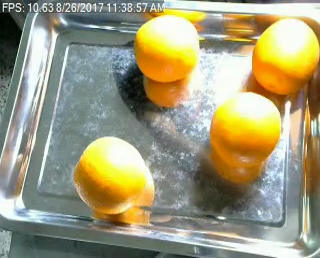Orange: (252, 16, 320, 97), (73, 137, 144, 214), (210, 91, 281, 166), (133, 14, 198, 81)
